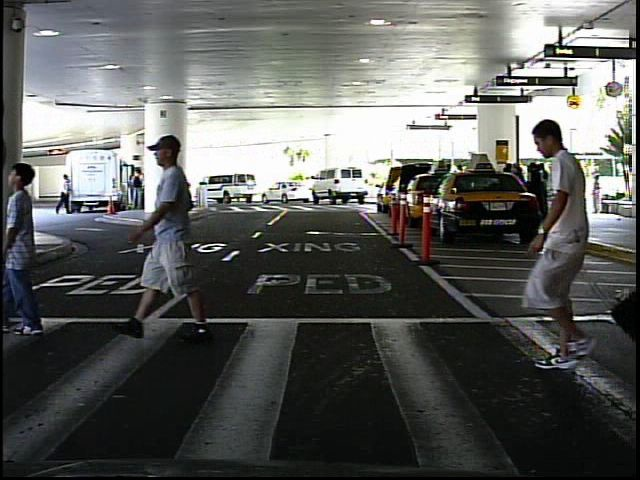person: (492, 114, 611, 380), (139, 129, 220, 342), (54, 171, 76, 221), (588, 172, 607, 218)
